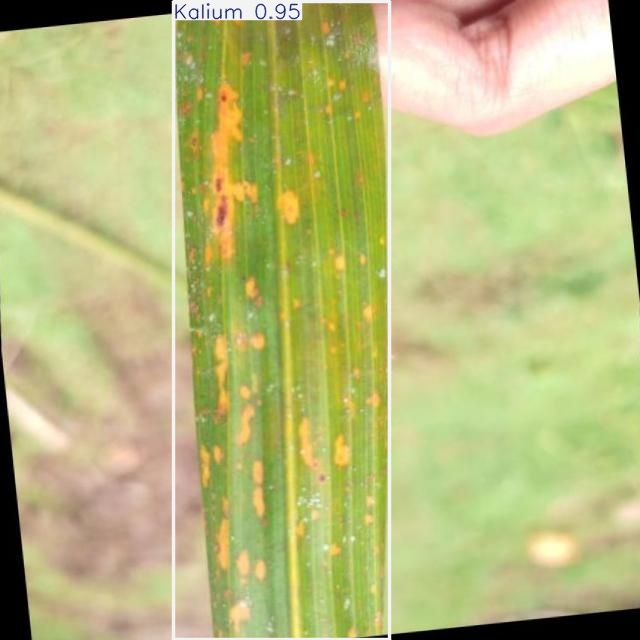Kalium: (173, 1, 389, 639)
